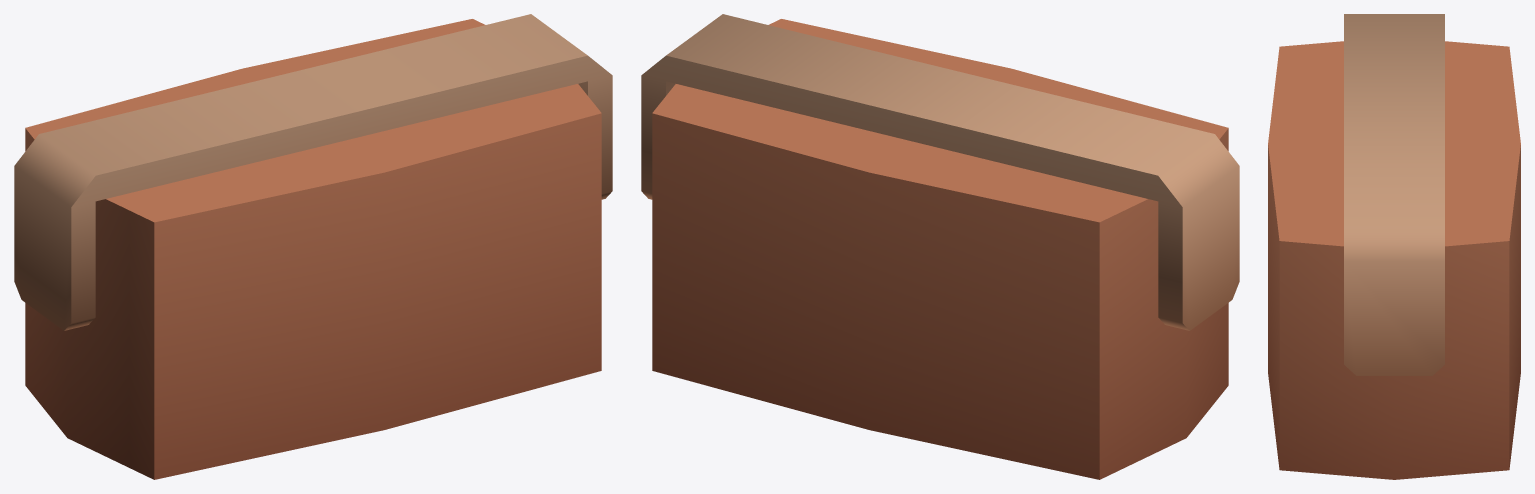
File: box-long.glb
3 renders of one model, left to right at view 1: azimuth 30°, elevation 25°; view 2: azimuth 150°, elevation 25°; view 3: azimuth 270°, elevation 25°, orthographic. The views are drawn at different scales.
Parts seen in each view (by area): view 1: box-long; view 2: box-long; view 3: box-long.
Boxes of the visible parts, x1=… form: box-long: x1=14, y1=14, x2=612, y2=479; box-long: x1=641, y1=14, x2=1239, y2=479; box-long: x1=1268, y1=14, x2=1520, y2=479.
Size of the model in its own units: 1.1 by 0.55 by 0.5.
